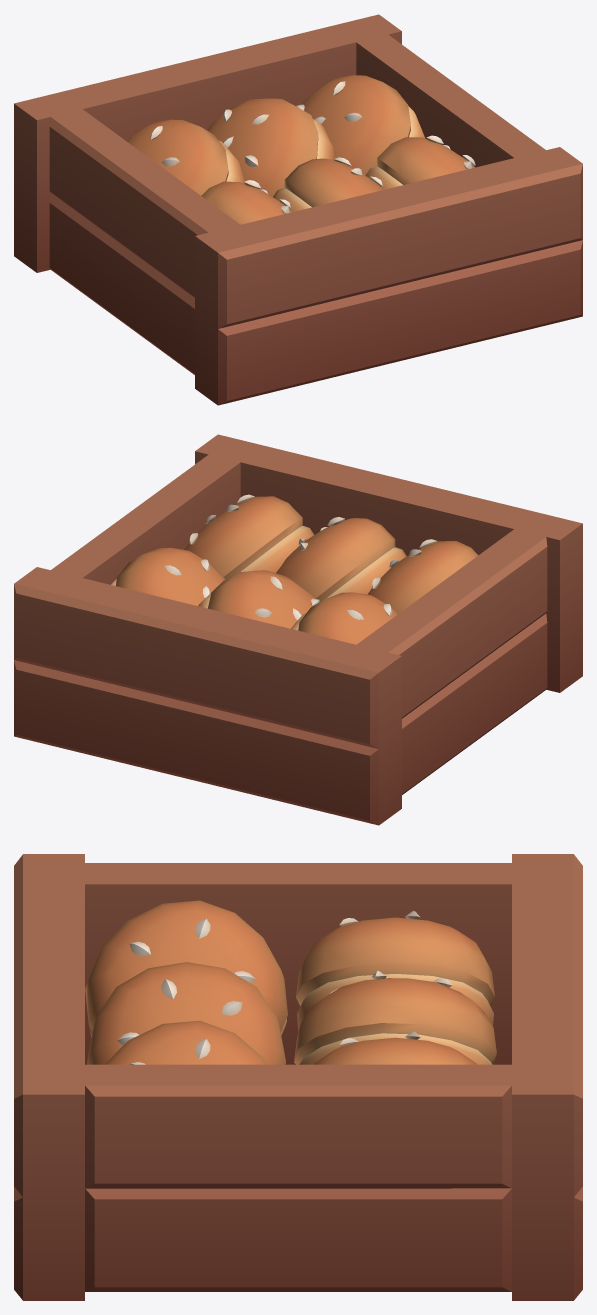
File: crate.glb
The picture shows the model from 3 angles, top to bottom: view 1: azimuth 30°, elevation 25°; view 2: azimuth 150°, elevation 25°; view 3: azimuth 270°, elevation 25°; orthographic projection. The views are drawn at different scales.
Visible parts, largest first — view 1: crate_buns; view 2: crate_buns; view 3: crate_buns.
Part boxes in pixels (left/top/right/bottom): crate_buns: left=14, top=14, right=582, bottom=405; crate_buns: left=14, top=434, right=582, bottom=825; crate_buns: left=14, top=854, right=582, bottom=1300.
Bounding box in the file's own units: 2 × 0.8023 × 2.
1 material, 1 textured.
